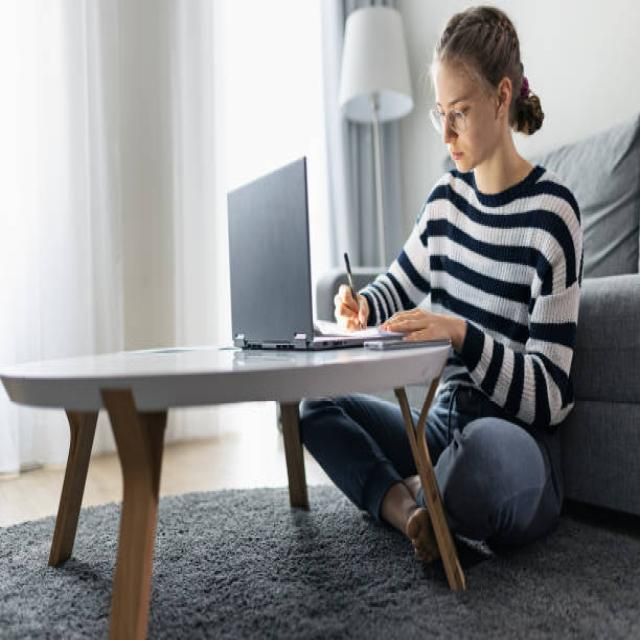Real human 2: (281, 2, 581, 569)
